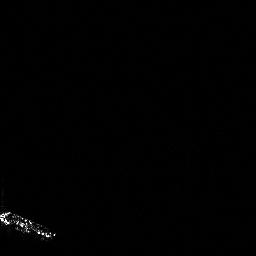ship: (1, 206, 58, 245)
